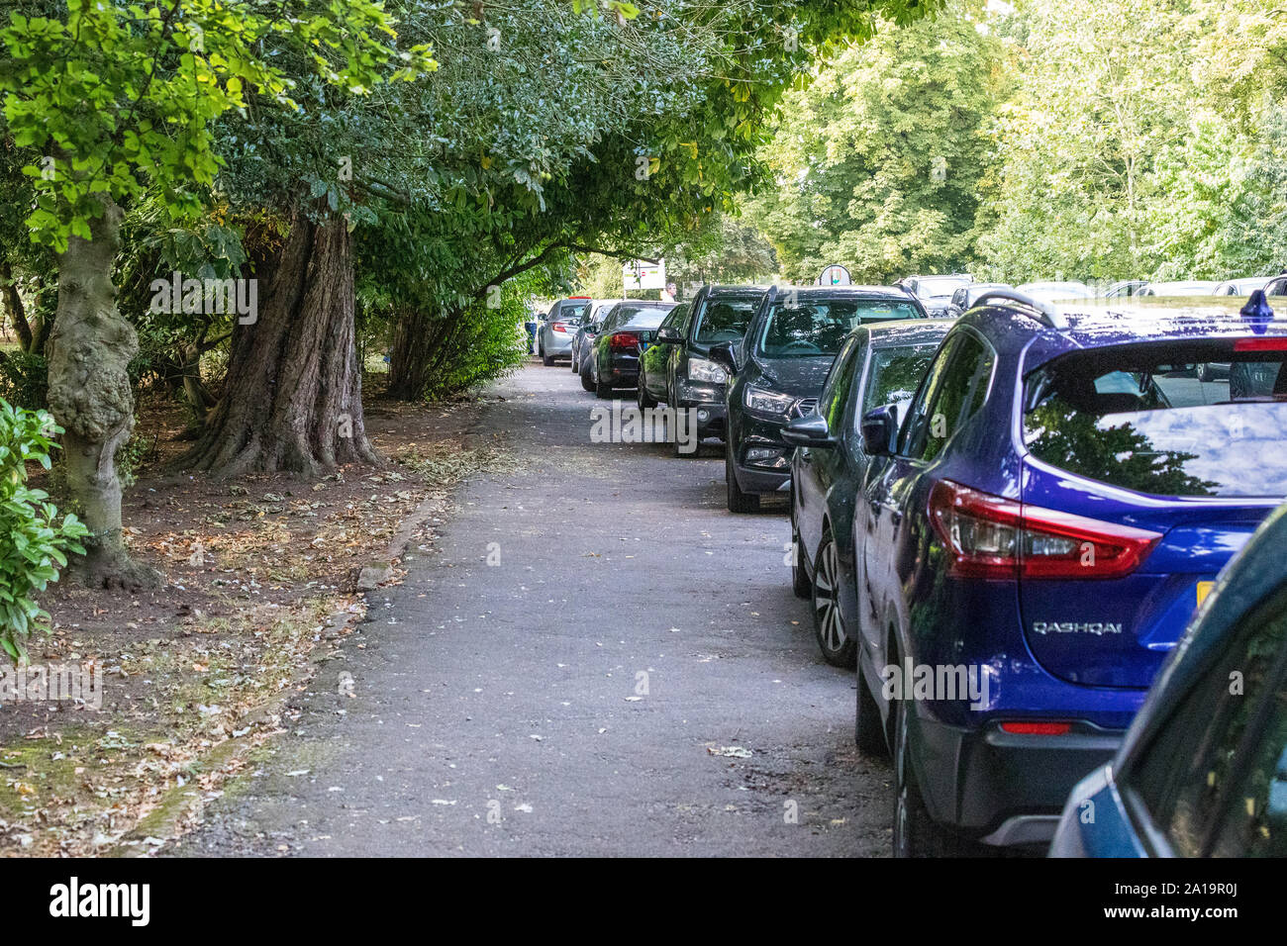Car: (721, 279, 964, 525), (650, 282, 816, 449)
